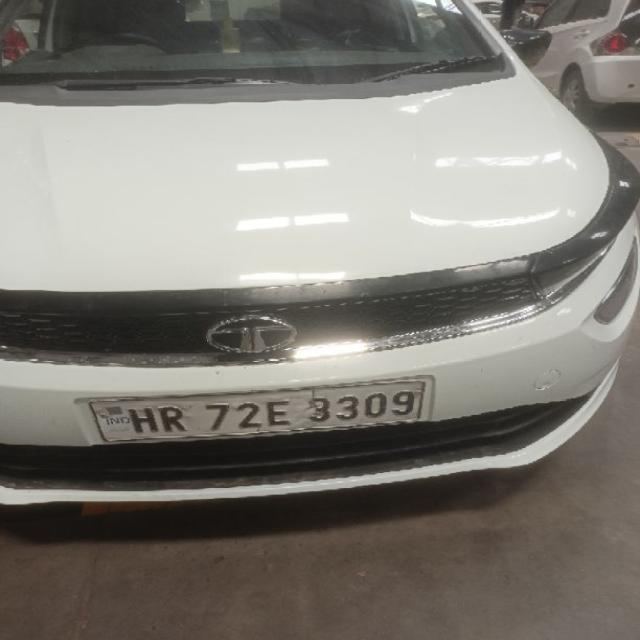license_plate: (86, 376, 431, 443)
